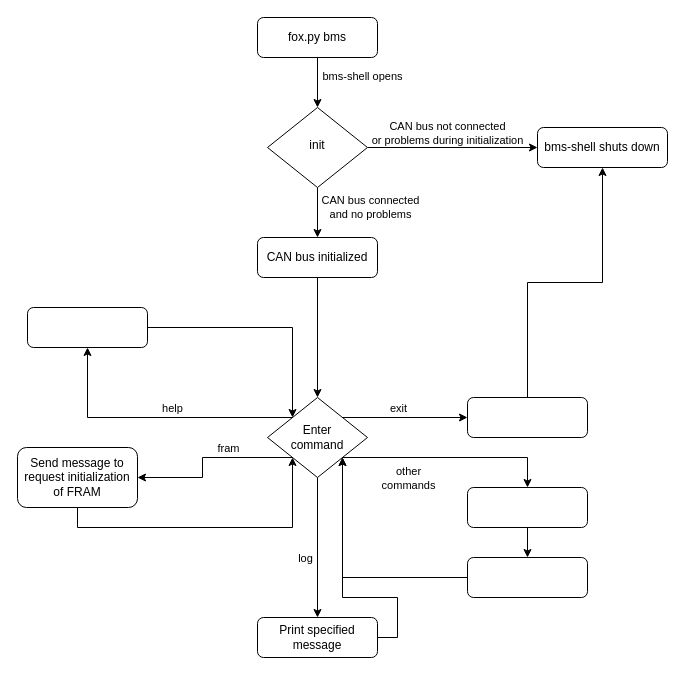
The diagram is 685 pixels wide and 675 high, and some of its shapes have lost their labels. Here are the shapes that lost their labels. From the top down, the centre of each, then its label:
At point (87, 327): "Print commands".
At point (527, 417): "bms-shell shuts subprocesses down".
At point (527, 507): "Send message".
At point (527, 577): "Print response".
